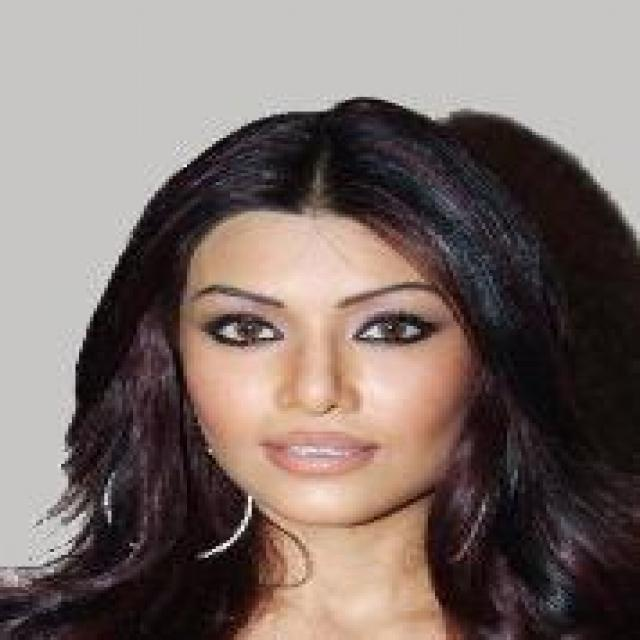nomask: (79, 144, 565, 549)
